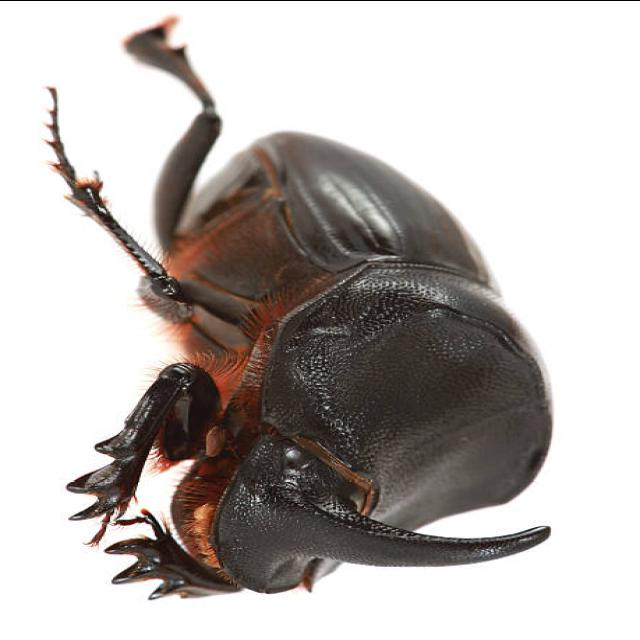Rhino-beetle: (49, 33, 563, 608)
